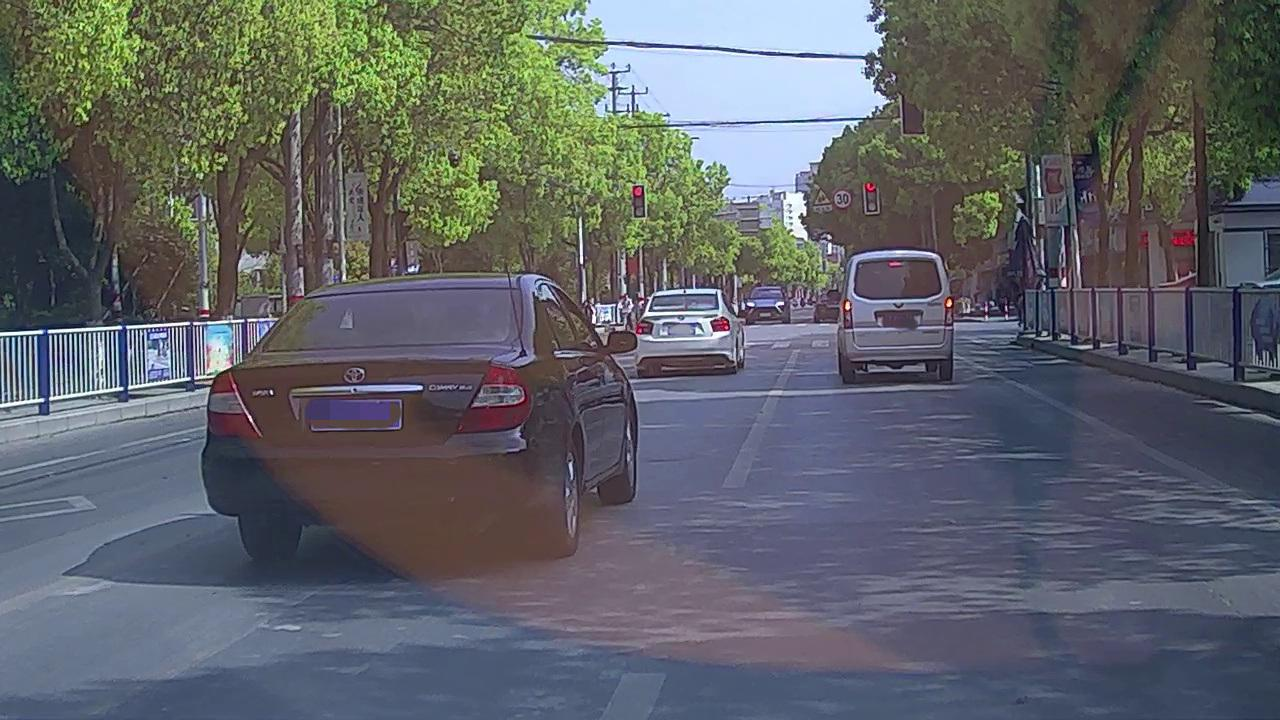traffic_light: (864, 179, 879, 213), (633, 186, 645, 218)
